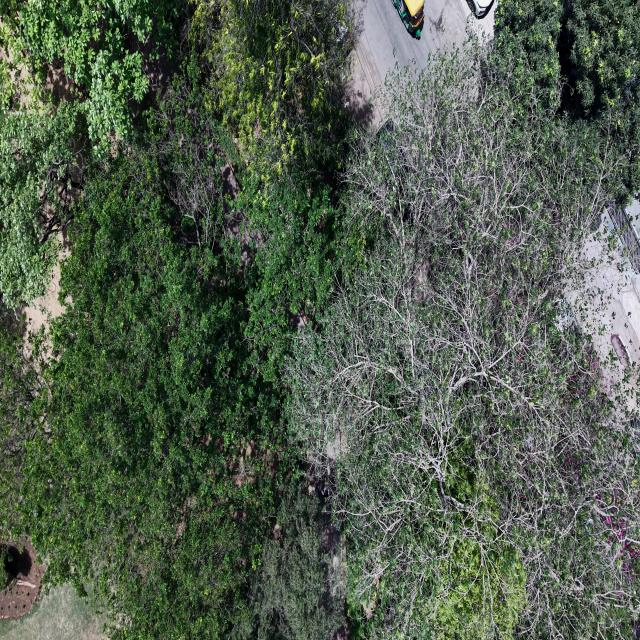DRY_AREA: (346, 0, 495, 128), (563, 211, 639, 409), (0, 538, 105, 639), (0, 540, 105, 639), (0, 585, 105, 639), (23, 233, 69, 334), (0, 537, 43, 619)
VEGETATION_TREE: (0, 0, 639, 639), (289, 48, 639, 639), (3, 57, 343, 637), (20, 149, 300, 637), (22, 150, 279, 637), (0, 0, 352, 308), (0, 0, 186, 308), (189, 0, 352, 182), (496, 0, 639, 193), (0, 0, 186, 145), (0, 19, 86, 308), (237, 181, 342, 381), (236, 488, 344, 639), (0, 102, 79, 307), (0, 307, 44, 539), (0, 549, 9, 589)
